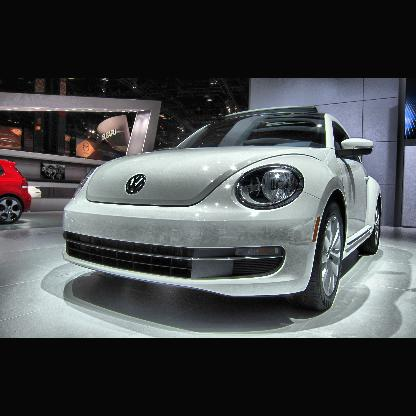Volkswagen Beetle Hatchback 2012: (64, 105, 383, 313)
